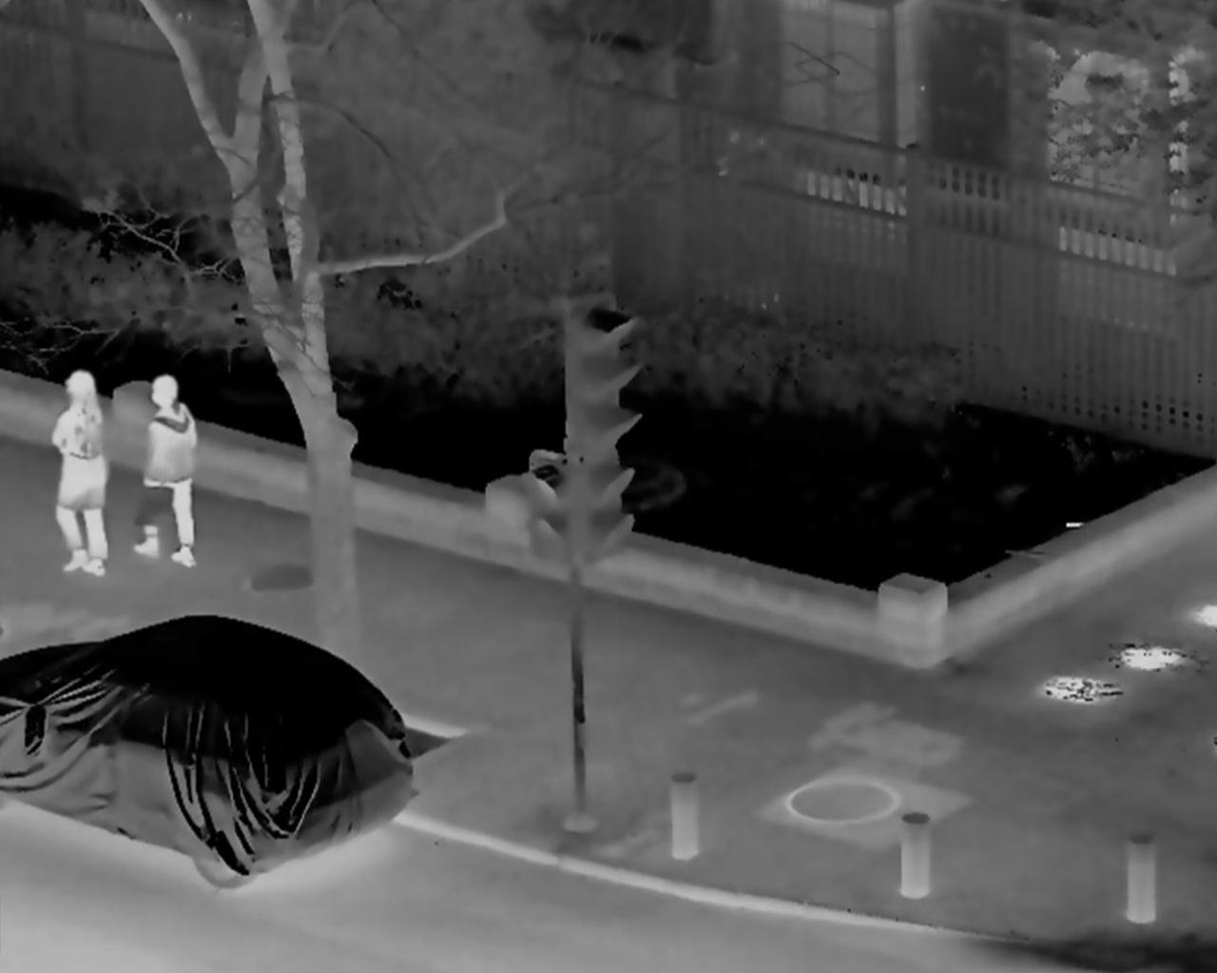person: (133, 375, 200, 570), (48, 369, 110, 579)
